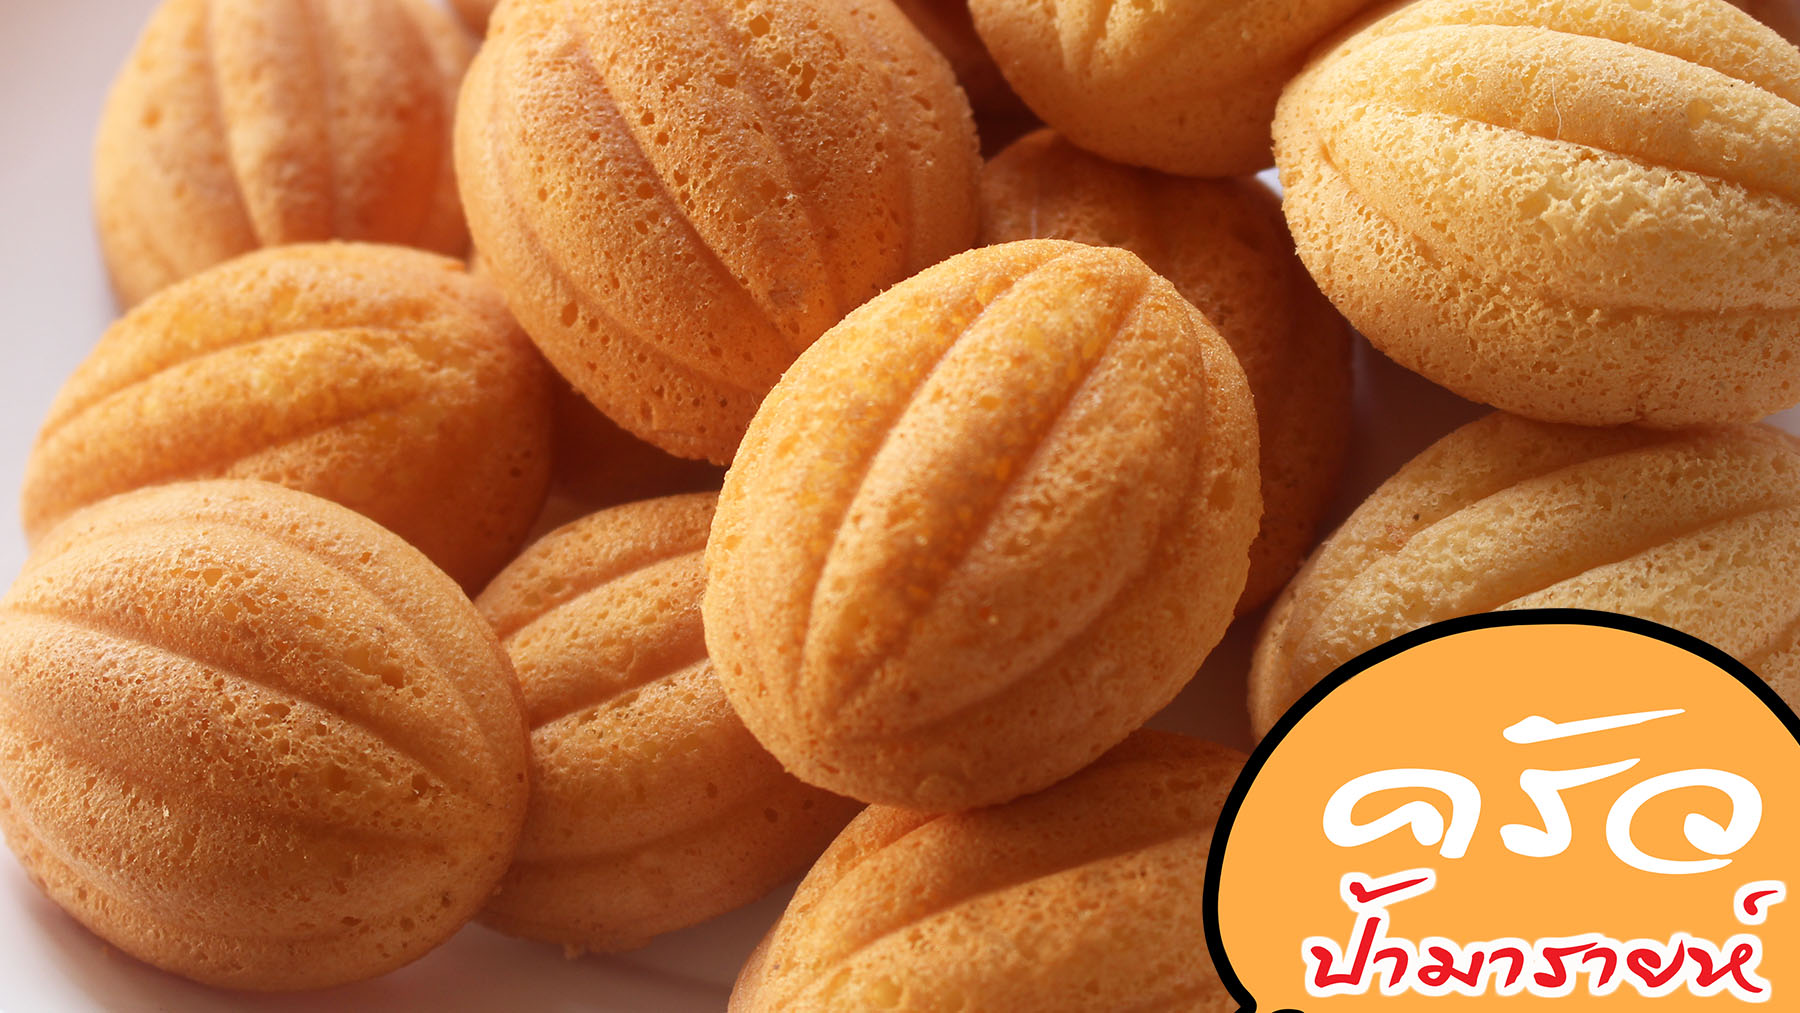kanomkai: (690, 230, 1278, 832), (12, 482, 540, 1012), (1259, 10, 1800, 459)
